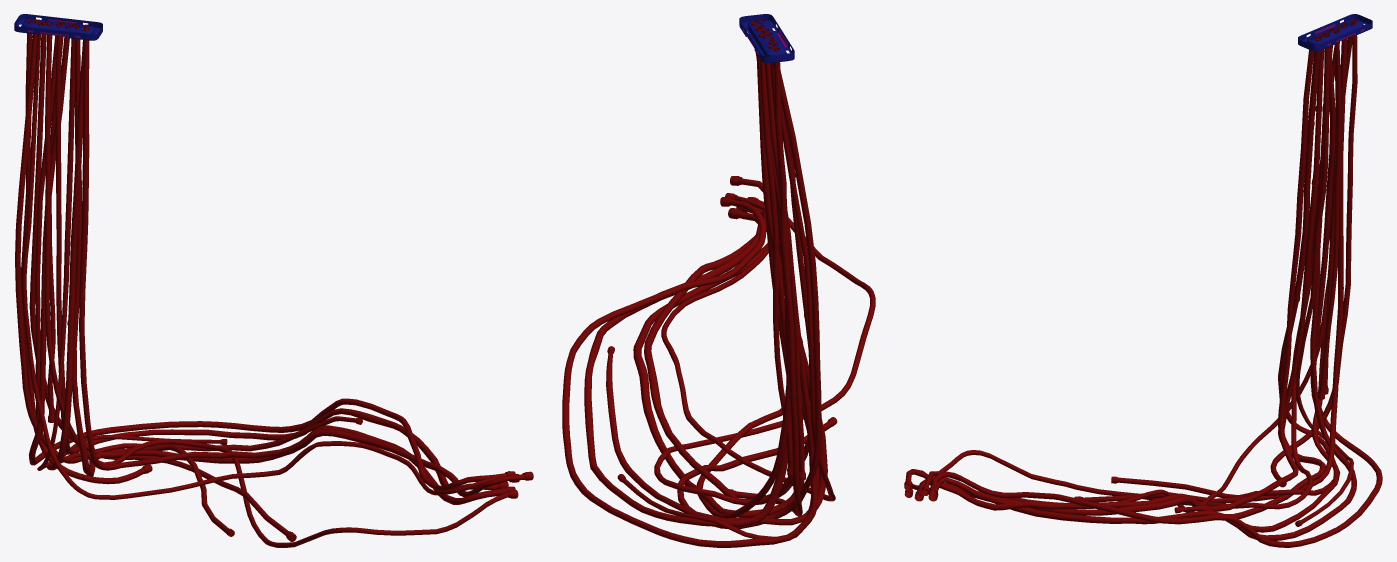
Rendered from Cable_Details_03.fbx.
3 renders of one model, left to right at view 1: azimuth 30°, elevation 25°; view 2: azimuth 150°, elevation 25°; view 3: azimuth 270°, elevation 25°, orthographic. The views are drawn at different scales.
Parts seen in each view (by area): view 1: Cable_Details_03; view 2: Cable_Details_03; view 3: Cable_Details_03.
Part boxes in pixels (bbox=[...]): Cable_Details_03: bbox=[14, 14, 533, 547]; Cable_Details_03: bbox=[562, 14, 875, 547]; Cable_Details_03: bbox=[904, 14, 1382, 547].
Bounding box in the file's own units: 225 × 323 × 326.
